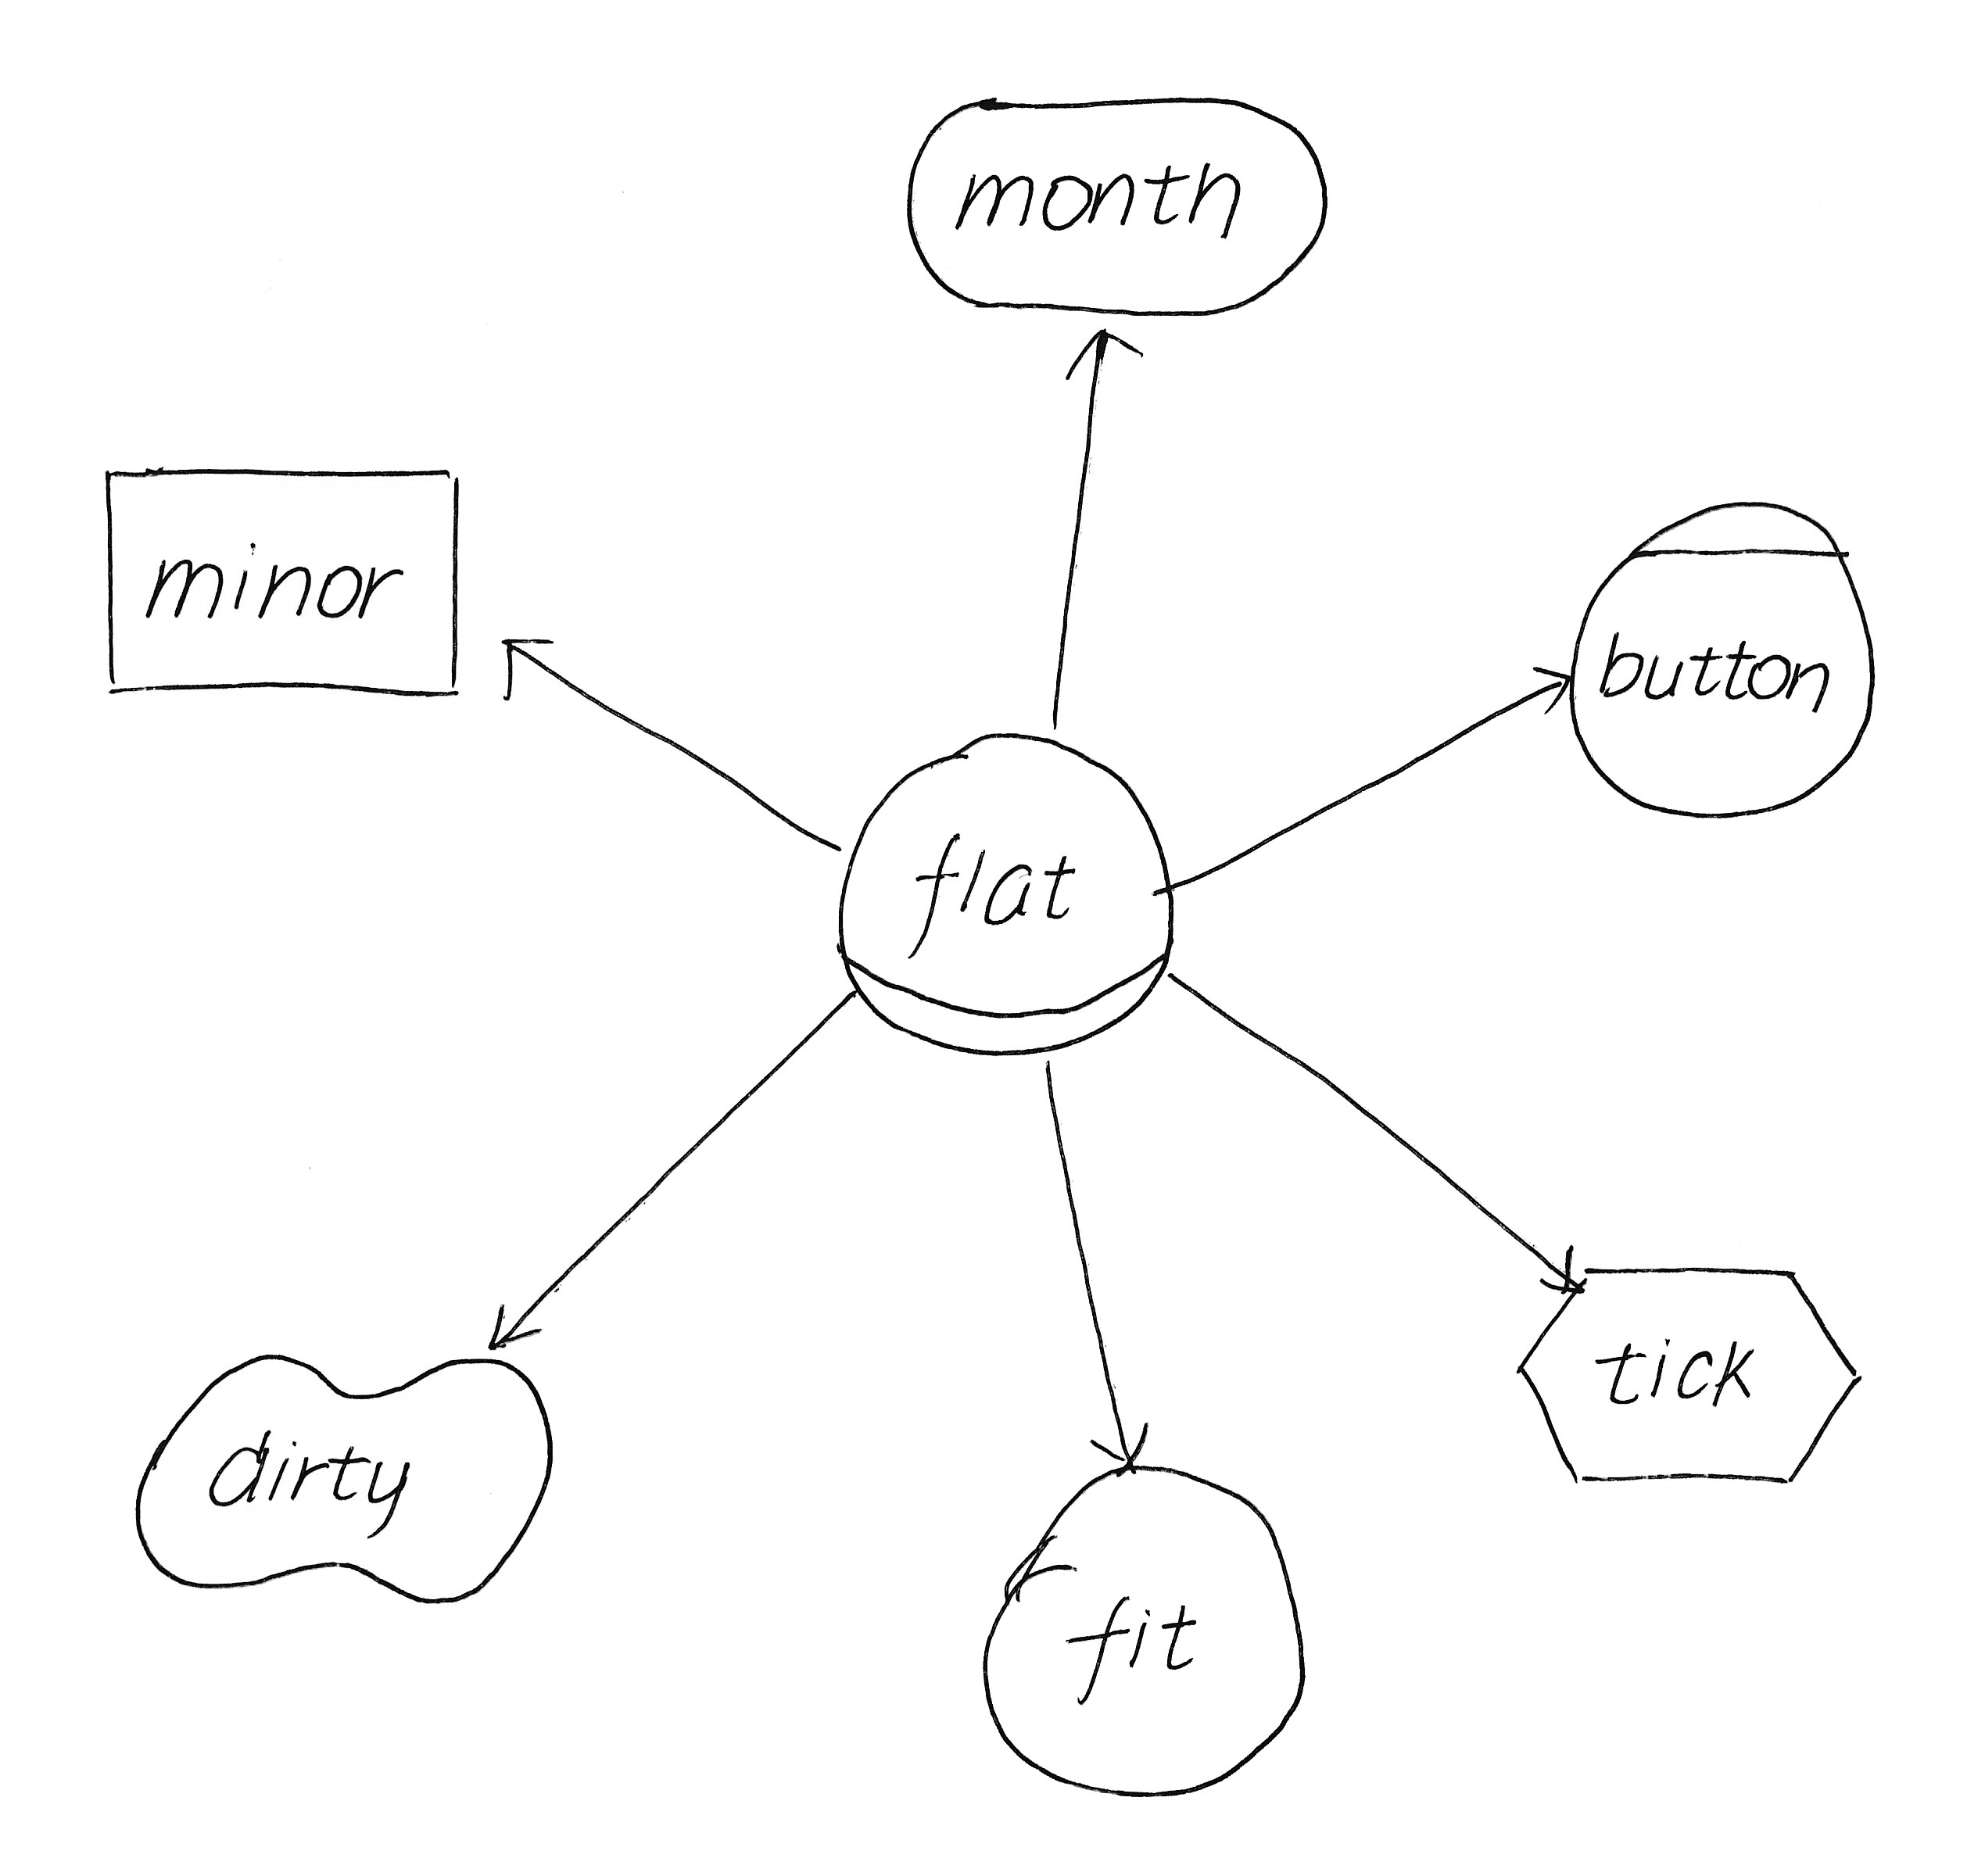actor: (961, 1442, 1324, 1813)
agent: (1548, 476, 1892, 832)
arrow: (483, 615, 568, 709), (1075, 1416, 1172, 1490), (1067, 317, 1144, 407), (1528, 1227, 1597, 1321), (478, 1287, 554, 1361), (1521, 642, 1583, 725)
goal: (896, 72, 1345, 326)
quality: (109, 1331, 575, 1619)
resource: (83, 444, 485, 725)
role: (818, 712, 1190, 1076)
task: (1500, 1247, 1881, 1504)
